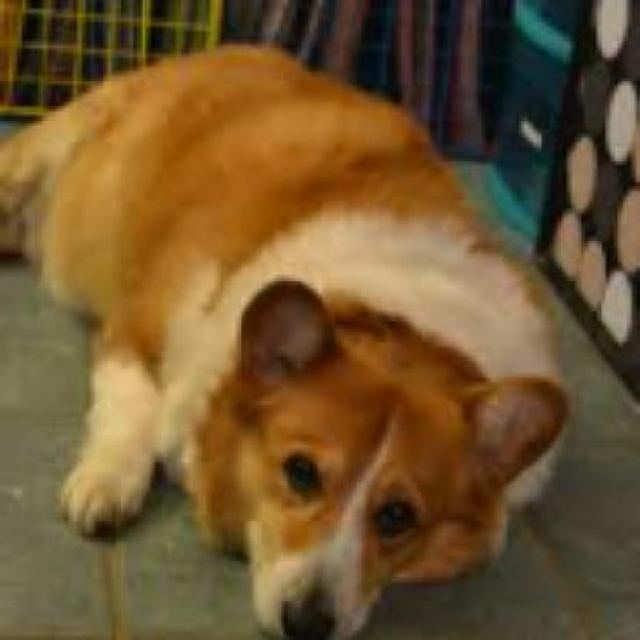Dog: (0, 39, 571, 638)
